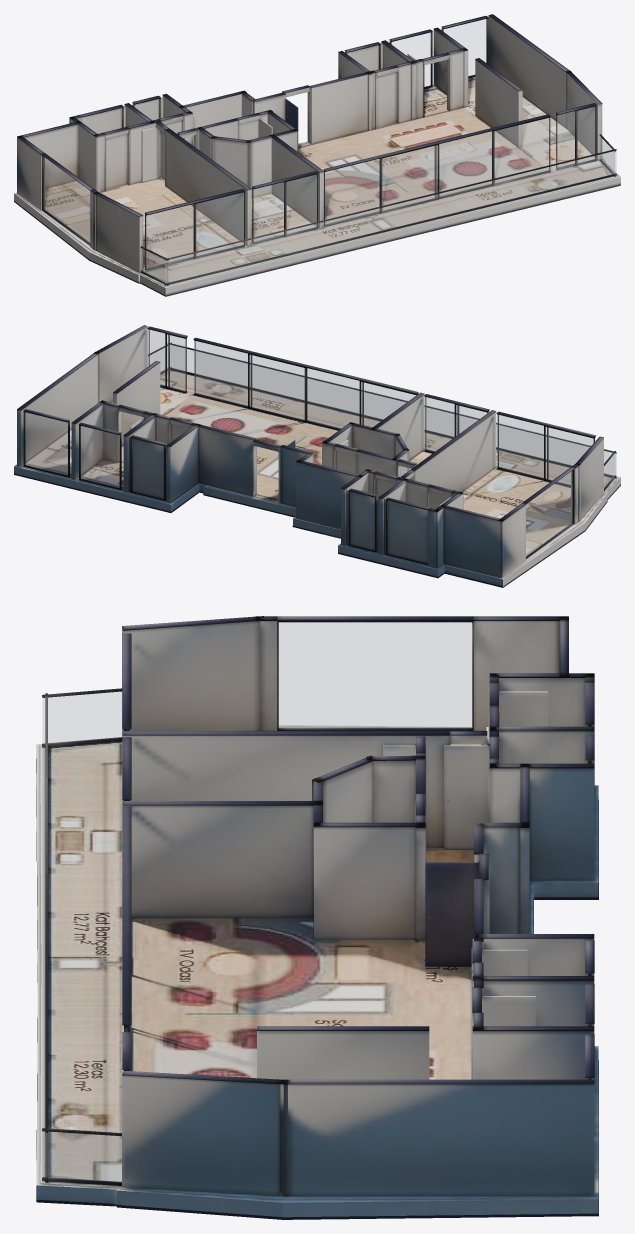
3 renders of one model, top to bottom at view 1: azimuth 30°, elevation 25°; view 2: azimuth 150°, elevation 25°; view 3: azimuth 270°, elevation 25°, orthographic. The views are drawn at different scales.
Visible parts, largest first — view 1: plan, glass0_m, railg1_m, glass1_m, glass2_m, glass9_m, glass3_m, glass8_m, glass7_m, railg2_m; view 2: plan, glass0_m, railg1_m, glass1_m, glass9_m, glass8_m, glass4_m, glass7_m, glass2_m, glass3_m, glass6_m, glass5_m; view 3: plan, glass9_m, railg0_m, railg2_m.
Part boxes in pixels (left/top/right/bottom): plan: left=14, top=14, right=620, bottom=296; glass0_m: left=325, top=118, right=548, bottom=224; railg1_m: left=165, top=151, right=616, bottom=283; glass1_m: left=146, top=192, right=243, bottom=268; glass2_m: left=253, top=175, right=316, bottom=242; glass9_m: left=43, top=157, right=89, bottom=242; glass3_m: left=557, top=107, right=594, bottom=167; glass8_m: left=444, top=19, right=486, bottom=75; glass7_m: left=392, top=32, right=430, bottom=86; railg2_m: left=141, top=248, right=167, bottom=283; plan: left=14, top=325, right=620, bottom=587; glass0_m: left=194, top=341, right=415, bottom=428; railg1_m: left=170, top=345, right=616, bottom=475; glass1_m: left=497, top=415, right=593, bottom=484; glass9_m: left=526, top=471, right=572, bottom=556; glass8_m: left=25, top=412, right=67, bottom=475; glass4_m: left=388, top=501, right=427, bottom=562; glass7_m: left=81, top=426, right=119, bottom=487; glass2_m: left=425, top=397, right=486, bottom=451; glass3_m: left=148, top=330, right=185, bottom=390; glass6_m: left=133, top=439, right=163, bottom=498; glass5_m: left=351, top=492, right=374, bottom=549; plan: left=36, top=616, right=598, bottom=1219; glass9_m: left=279, top=622, right=471, bottom=728; railg0_m: left=42, top=1131, right=121, bottom=1182; railg2_m: left=42, top=692, right=122, bottom=743.
Bounding box in the file's own units: 20.62 × 2.62 × 10.25.
Materials: 2 (1 with a texture image).
